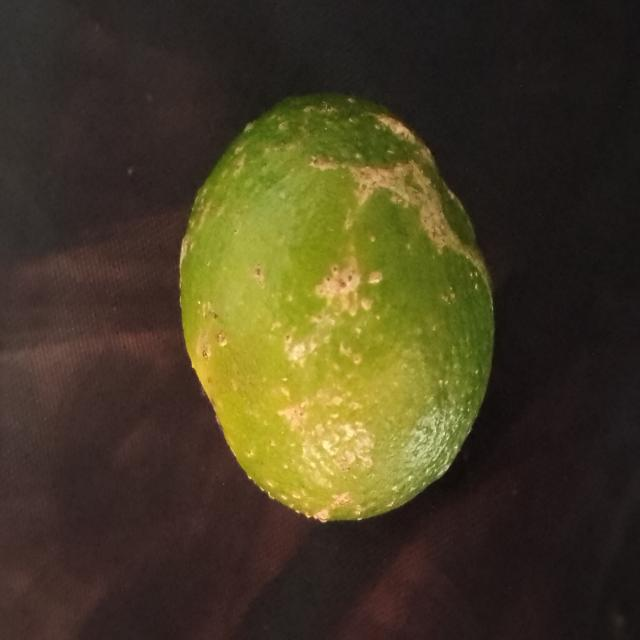scab: (175, 92, 494, 521)
